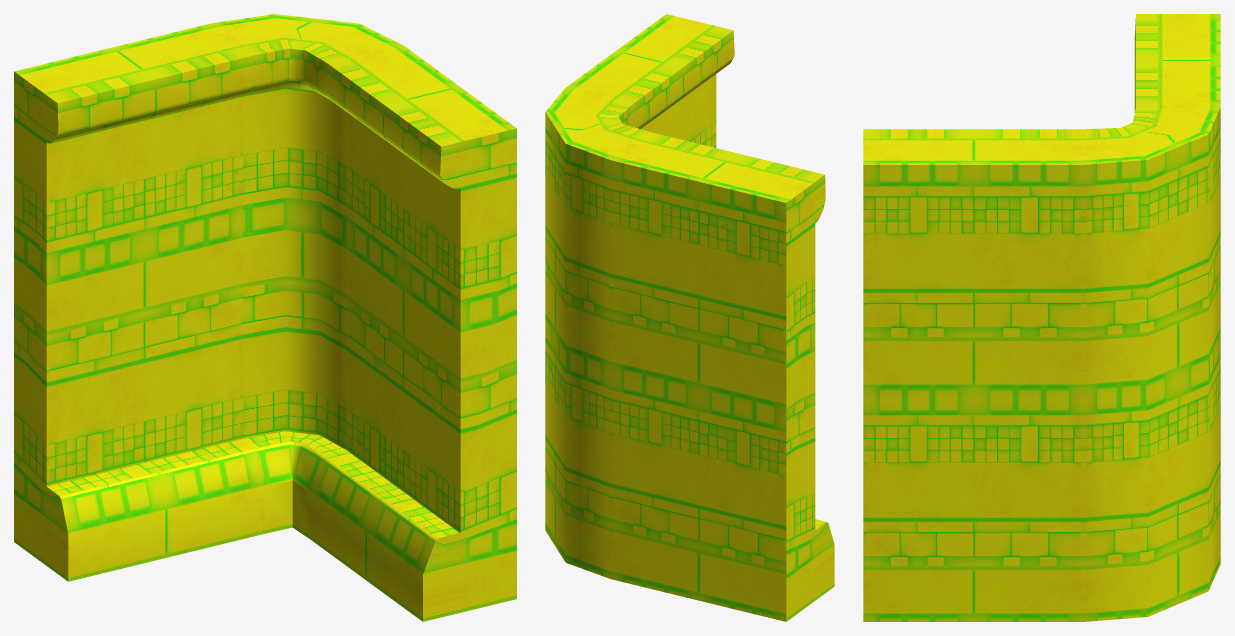
Rendered from wall_full_innercorner.fbx.
3 renders of one model, left to right at view 1: azimuth 30°, elevation 25°; view 2: azimuth 150°, elevation 25°; view 3: azimuth 270°, elevation 25°, orthographic. The views are drawn at different scales.
Visible parts, largest first — view 1: Wall_full_size_innercorner; view 2: Wall_full_size_innercorner; view 3: Wall_full_size_innercorner.
Boxes of the visible parts, left/top/right/bottom form: Wall_full_size_innercorner: left=14, top=14, right=516, bottom=621; Wall_full_size_innercorner: left=545, top=14, right=834, bottom=621; Wall_full_size_innercorner: left=863, top=14, right=1220, bottom=621.
Size of the model in its own units: 283 by 400 by 283.
